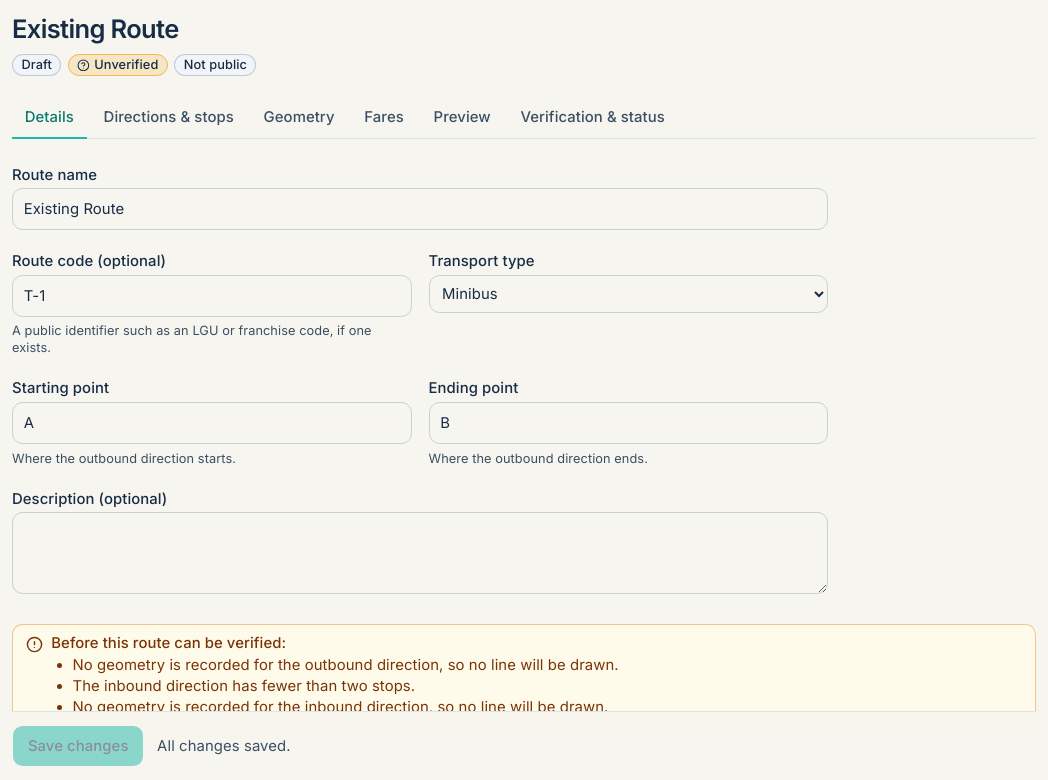
Test: directions › turns a two-way route one-way after confirmation
Click the tab "Directions & stops". click: (169, 118)
box: [91,97,247,140]
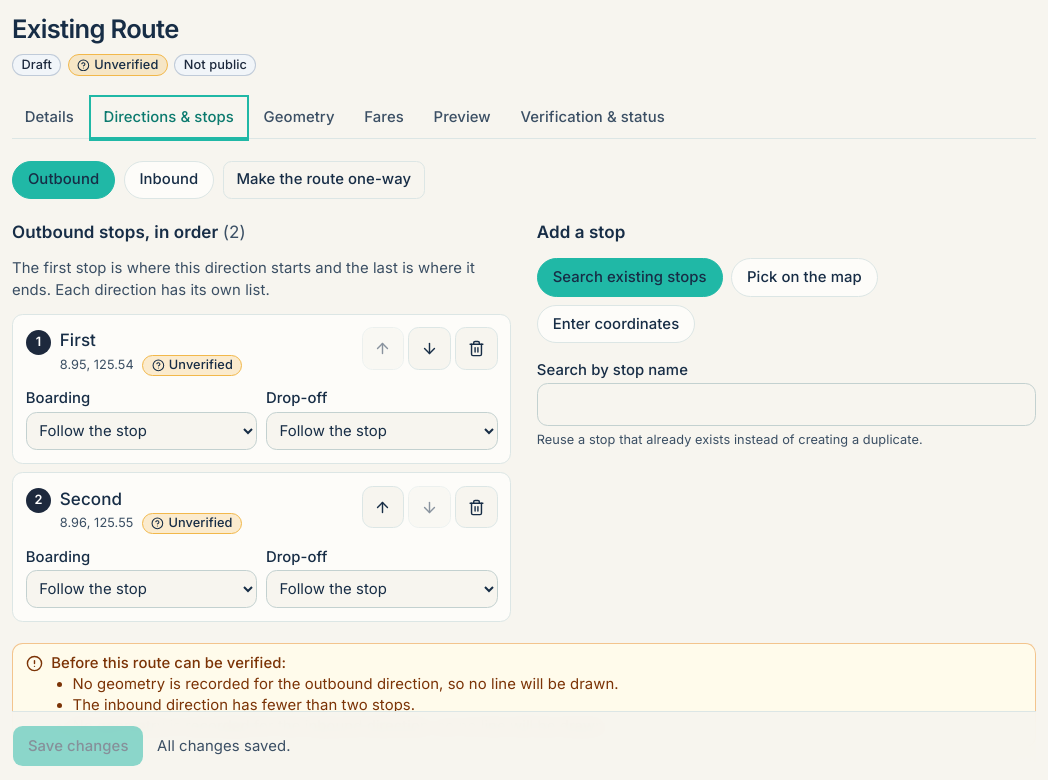
Click the button "Make the route one-way". click: (324, 180)
box: [223,161,425,199]
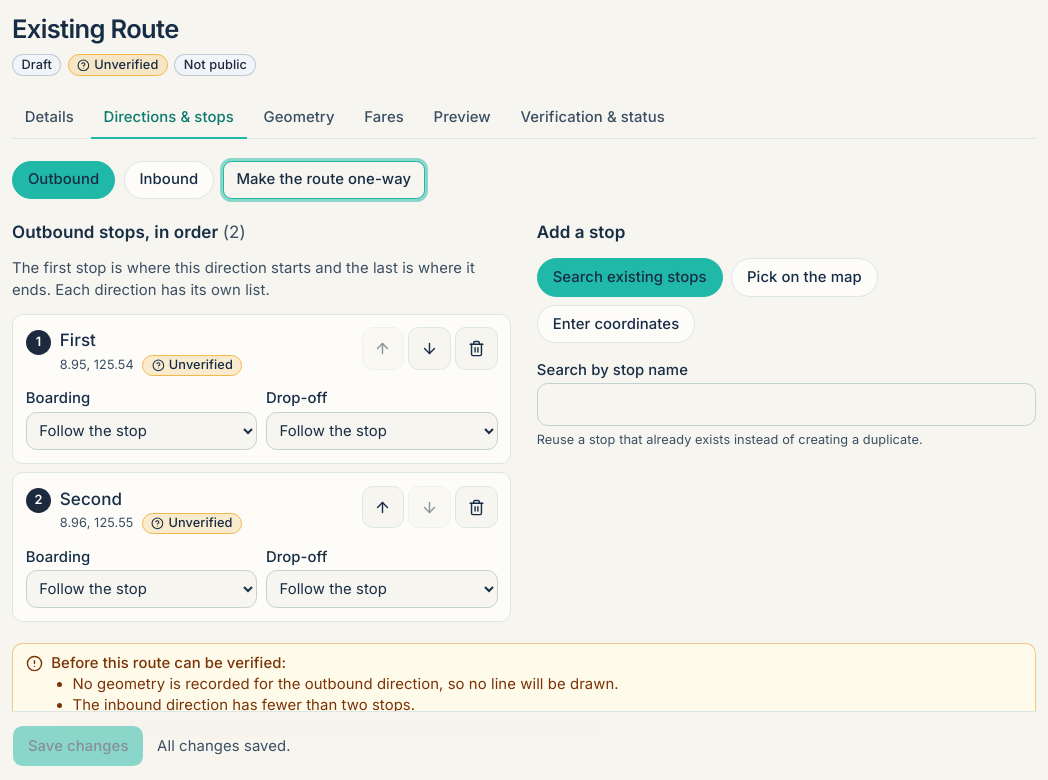
Check: the text "This route is one-way" is not shown
Click the button "Make the route one-way". click: (324, 180)
box: [223,161,425,199]
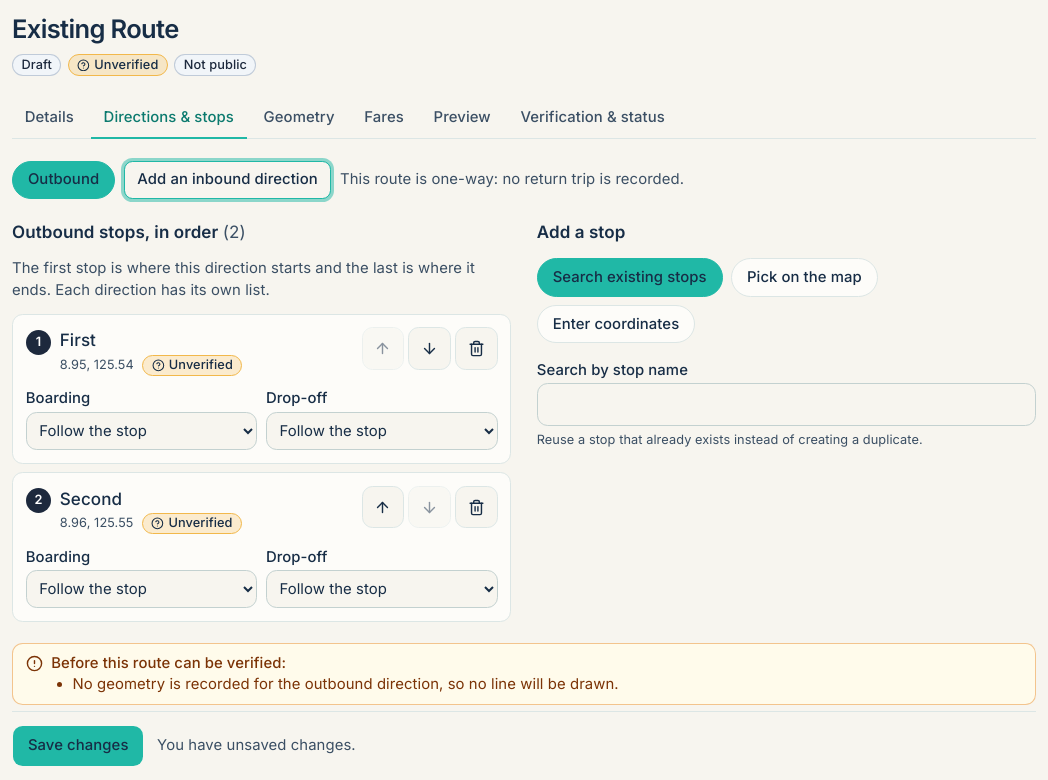
Check: the text "This route is one-way: no return trip is recorded." is shown, box [340,169,684,190]
